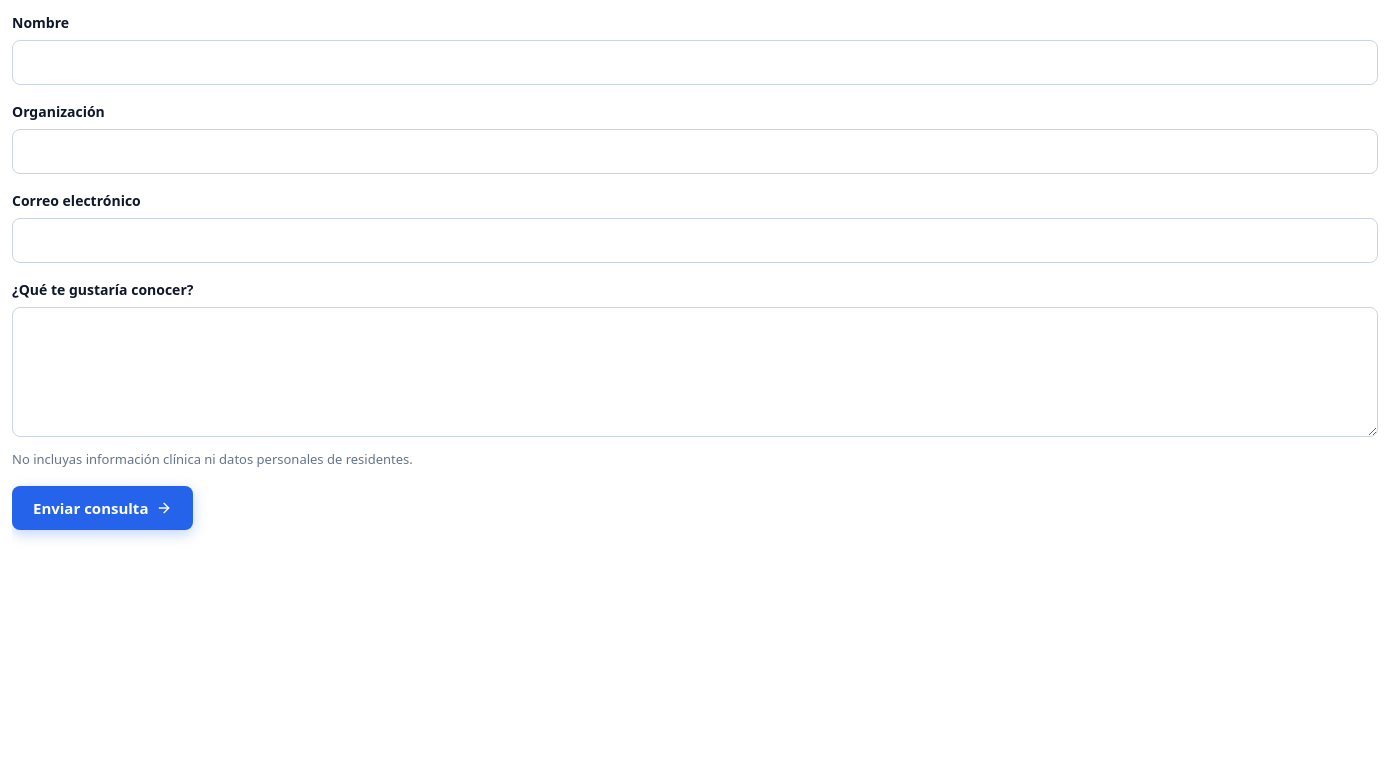
Test: ContactInquiryForm › envía la consulta mediante contactInquiryService y muestra mensaje de éxito
Type "Andrea Mora" into the field labelled "Nombre" at (695, 62), box [12,40,1378,85]
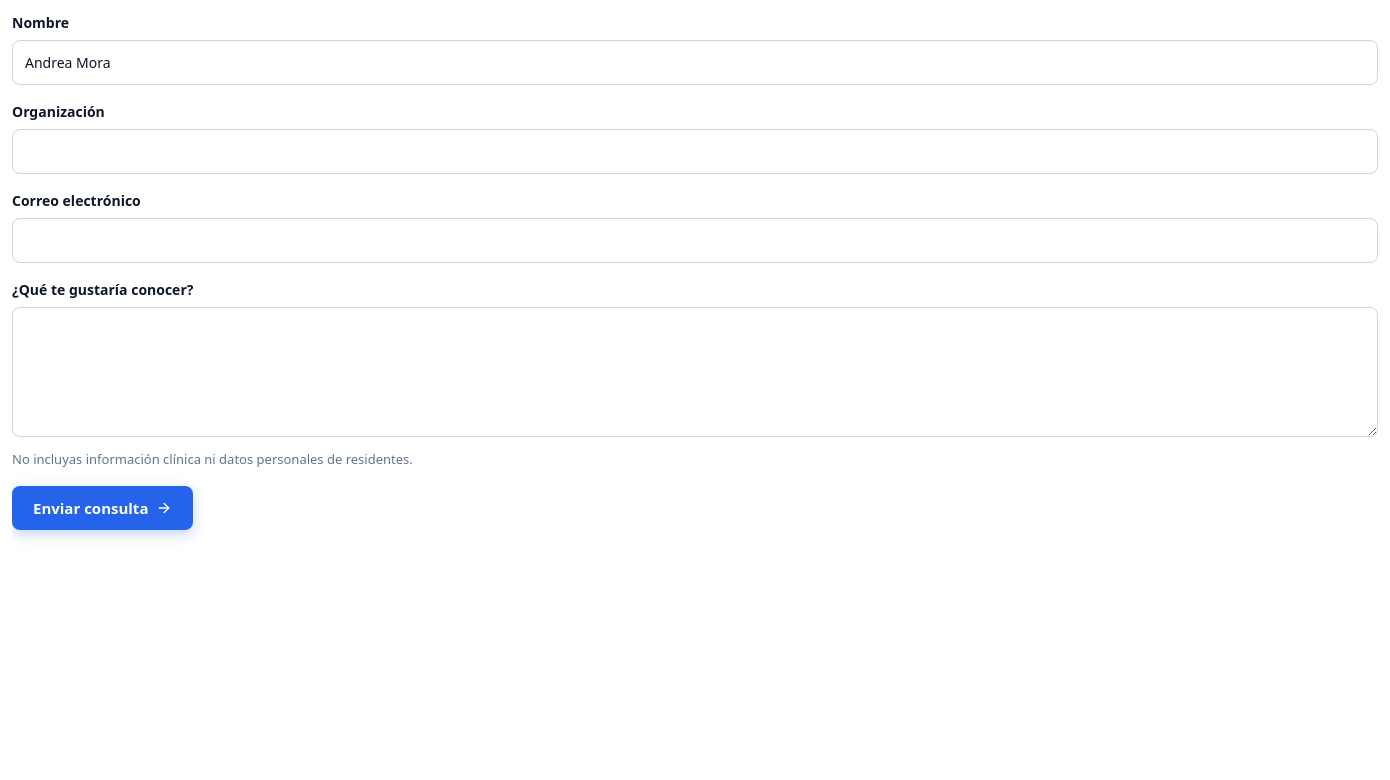
Type "Cruz Roja" into the field labelled "Organización" at (695, 152), box [12,129,1378,174]
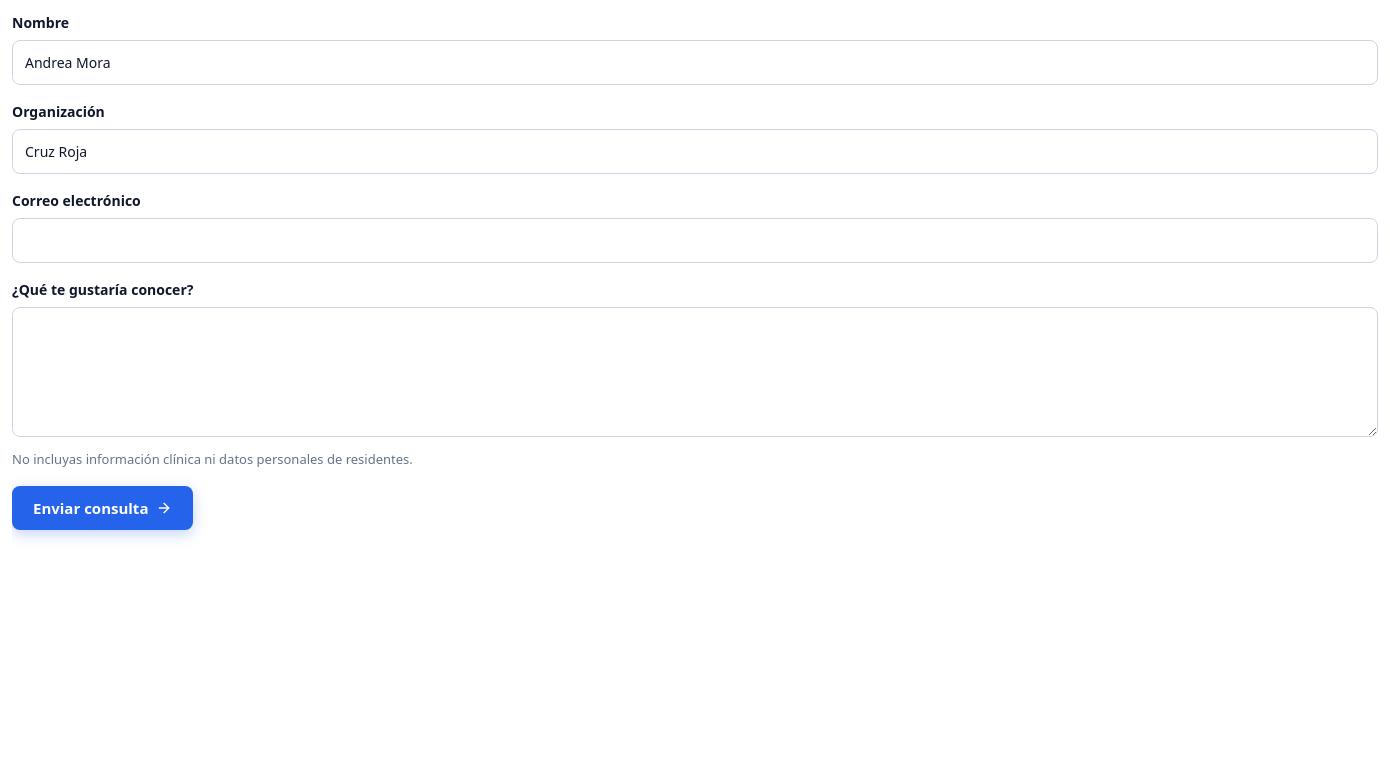
Type "andrea@cruzroja.cr" into the field labelled "Correo electrónico" at (695, 240), box [12,218,1378,263]
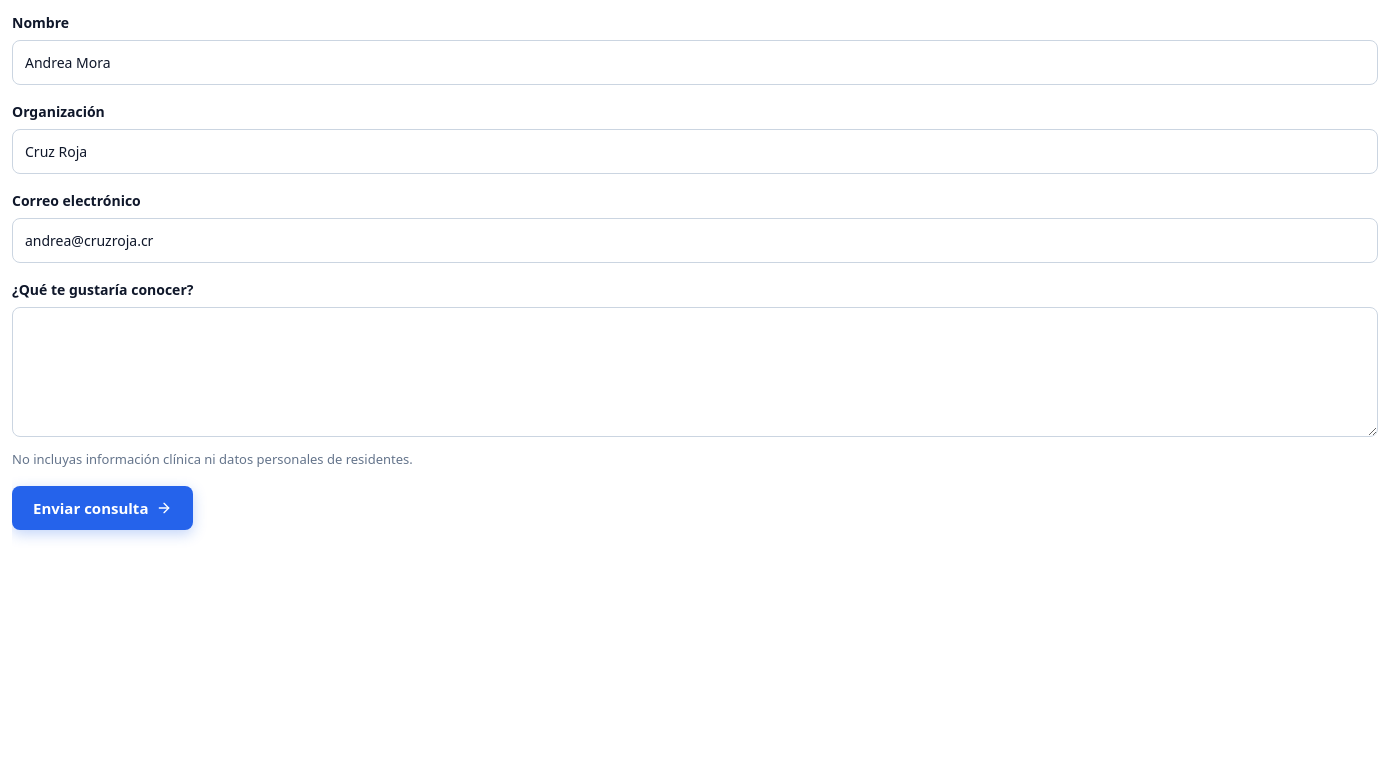
Type "Deseamos información sobre convenios institucionales." into the text box labelled "¿Qué te gustaría conocer?" at (695, 372), box [12,307,1378,437]
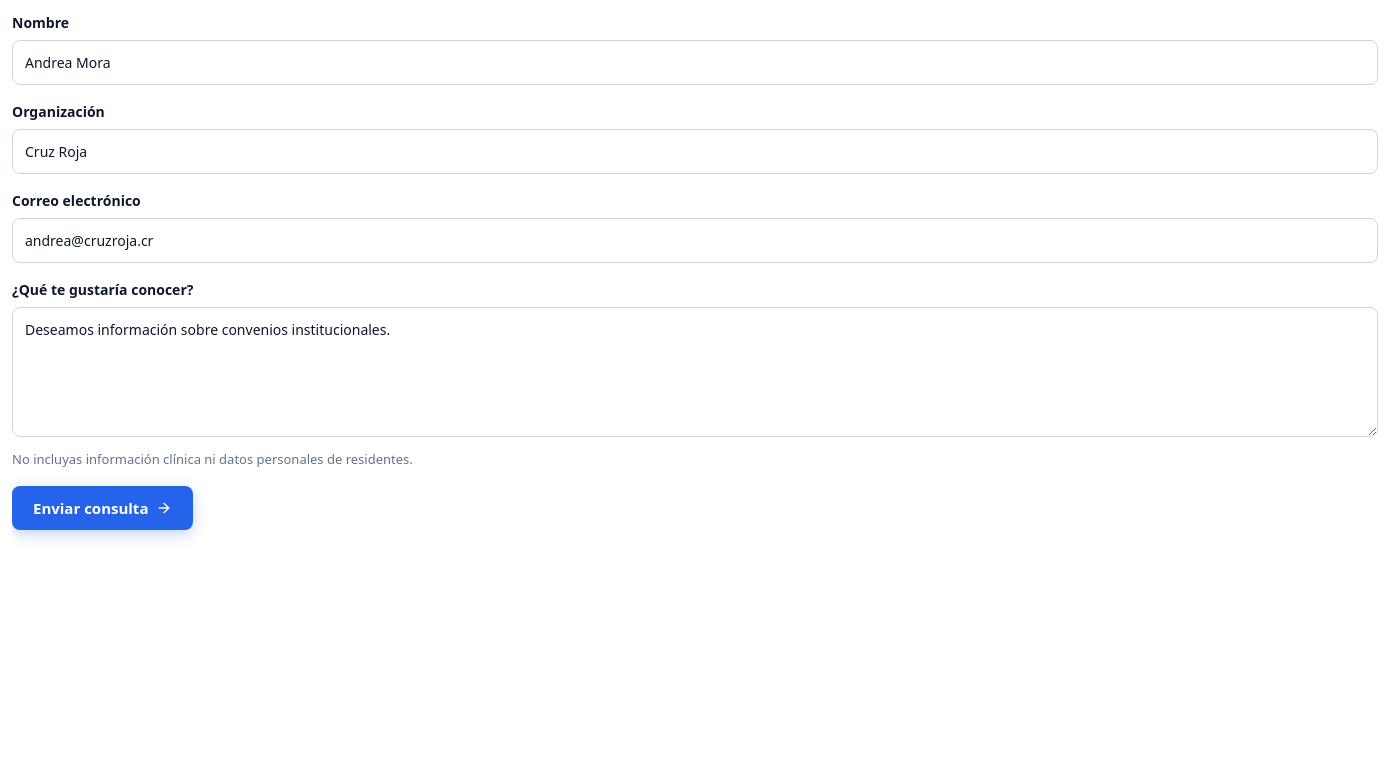
Click the button "Enviar consulta" at (103, 508), box [12,486,194,530]
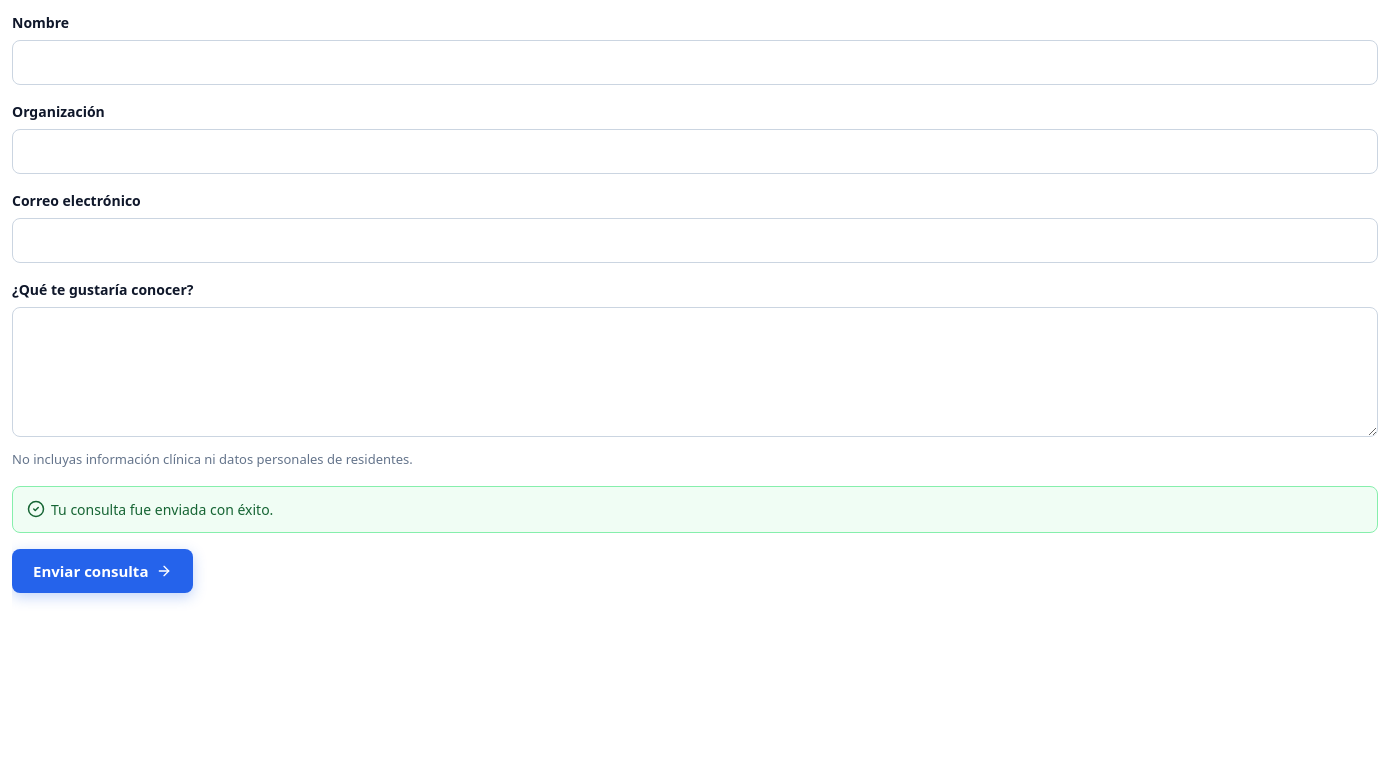
Result: the message "Tu consulta fue enviada con éxito." is shown at [12,486,1378,533]
Result: the text "Tu consulta fue enviada con éxito." is shown at [27,500,273,519]
